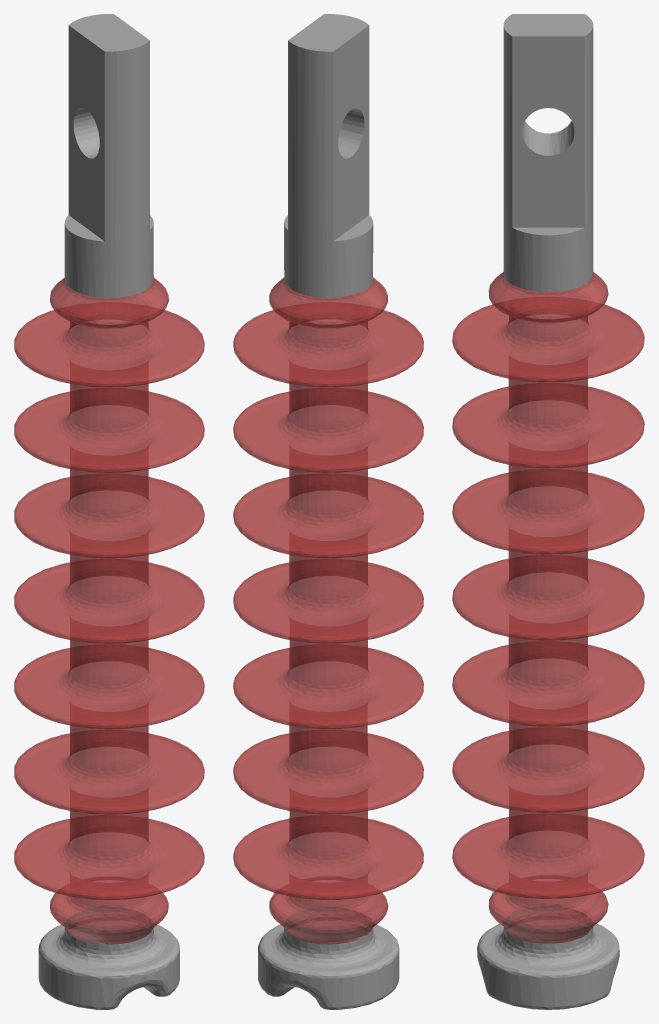
File: 复合横担绝缘子-2.obj
3 views of the same model, side by side, from view 1: azimuth 30°, elevation 25°; view 2: azimuth 150°, elevation 25°; view 3: azimuth 270°, elevation 25° (orthographic).
Visible parts, largest first — view 1: 复合横担绝缘子-2; view 2: 复合横担绝缘子-2; view 3: 复合横担绝缘子-2.
Boxes of the visible parts, x1,y1,x2,y2 form: 复合横担绝缘子-2: (14, 14, 204, 1009); 复合横担绝缘子-2: (233, 14, 423, 1009); 复合横担绝缘子-2: (452, 14, 644, 1009).
Size of the model in its own units: 7.28 by 40 by 7.29.
